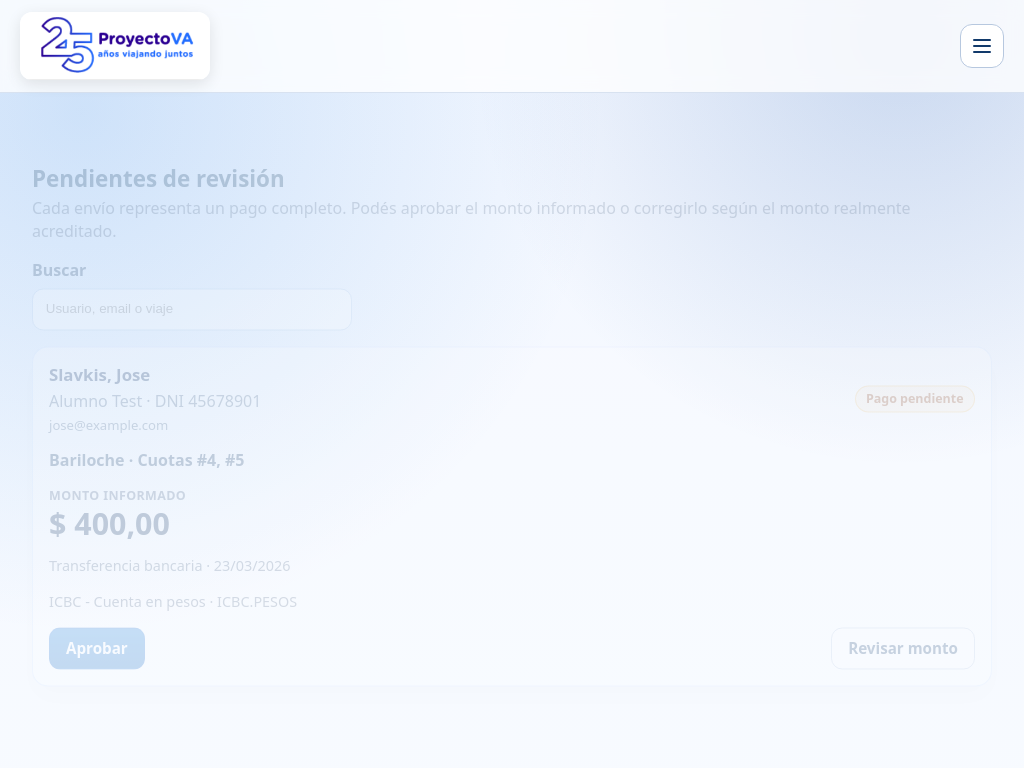
Test case: PendingReviewPage › quick approve sends exactly the reported amount
Expected: the heading "Slavkis, Jose" is shown, 49,363 -> 150,386
Click the button with aria-label "Aprobar monto informado" at (97, 648), box 49,628 -> 145,670
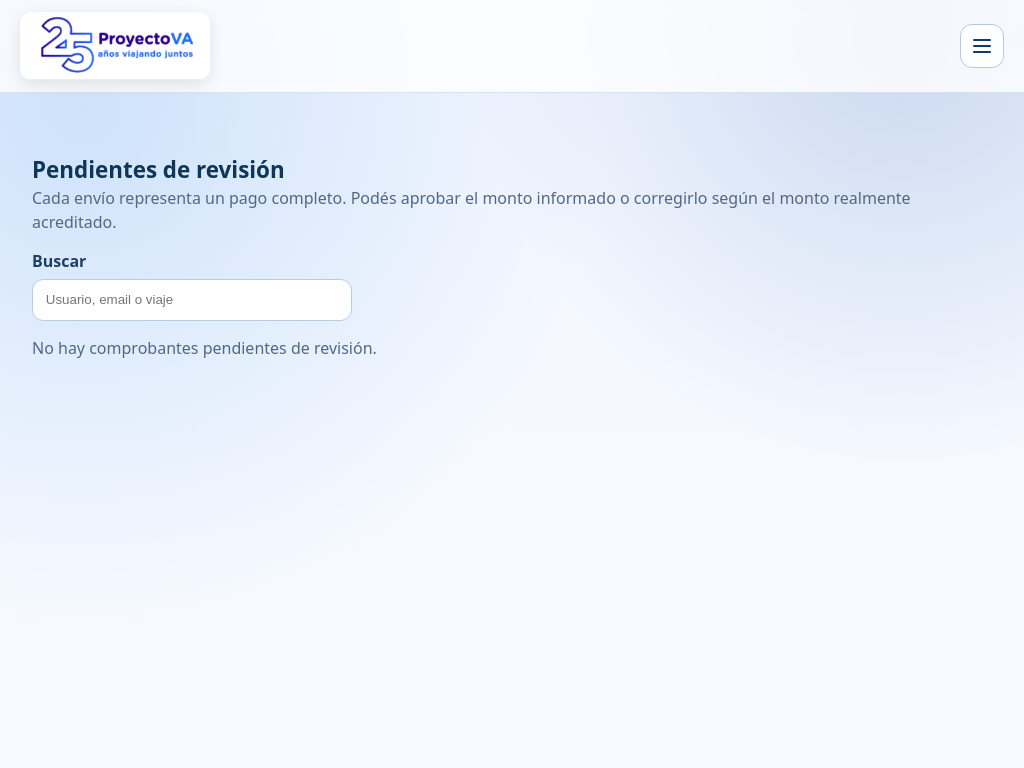
Expected: the text "No hay comprobantes pendientes de revisión." is shown, 32,336 -> 377,358
